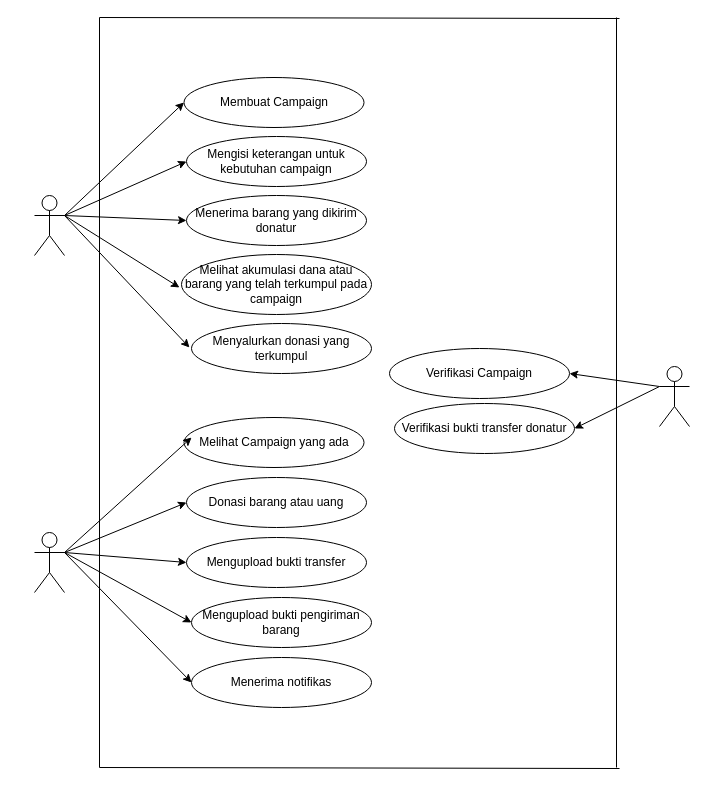
Image size: 709x787. Some labels were removed from this diagram. The box of each missing label's shape, as (x1, y1, x2, y2) in pixels:
Admin: (658, 366, 690, 426)
Campaigner: (34, 194, 64, 256)
Donatur: (34, 532, 64, 592)
